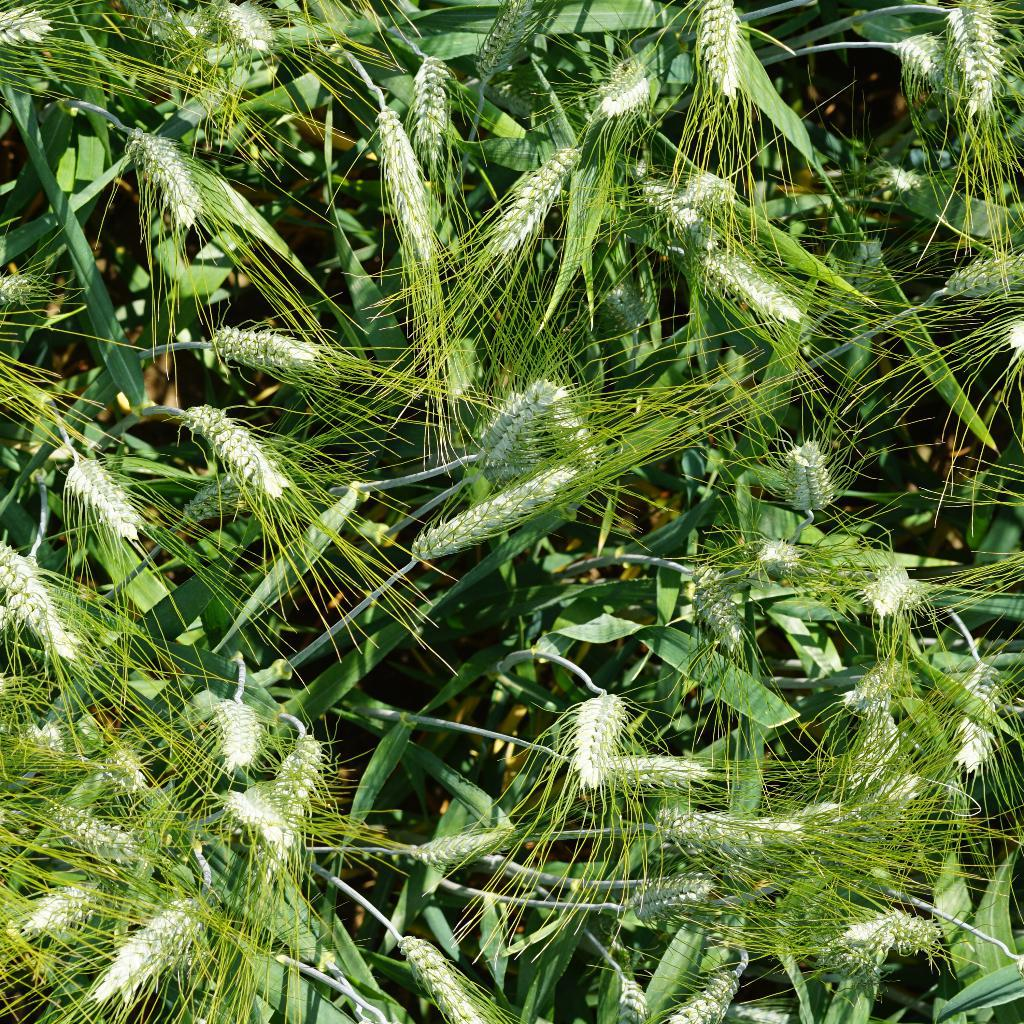0-0: (381, 468, 598, 557), (88, 892, 219, 1024), (467, 126, 591, 254), (387, 914, 523, 1024), (355, 109, 437, 280), (165, 395, 299, 494), (194, 314, 355, 395), (681, 240, 804, 340), (115, 123, 221, 238), (393, 27, 463, 191), (937, 647, 1019, 783), (646, 800, 802, 866), (452, 380, 571, 464), (0, 542, 88, 654), (178, 449, 292, 535), (823, 900, 953, 975), (59, 444, 154, 546), (683, 0, 761, 115), (557, 677, 632, 796), (36, 793, 156, 866), (271, 733, 343, 854), (944, 0, 1012, 123), (823, 773, 944, 841), (676, 560, 756, 662), (845, 661, 915, 777), (378, 814, 516, 870), (677, 153, 770, 235), (585, 736, 706, 799), (935, 236, 1024, 317), (462, 0, 537, 90), (75, 0, 201, 51), (775, 433, 840, 523), (660, 962, 754, 1024), (20, 878, 103, 948), (200, 0, 291, 62), (627, 867, 729, 920), (78, 733, 154, 803), (856, 557, 932, 626), (219, 788, 290, 858), (593, 53, 657, 124), (650, 165, 713, 232), (212, 695, 261, 772), (748, 530, 807, 593), (0, 0, 58, 62), (890, 21, 948, 81), (593, 277, 651, 334), (6, 714, 67, 763), (609, 973, 659, 1024), (877, 162, 936, 201)
